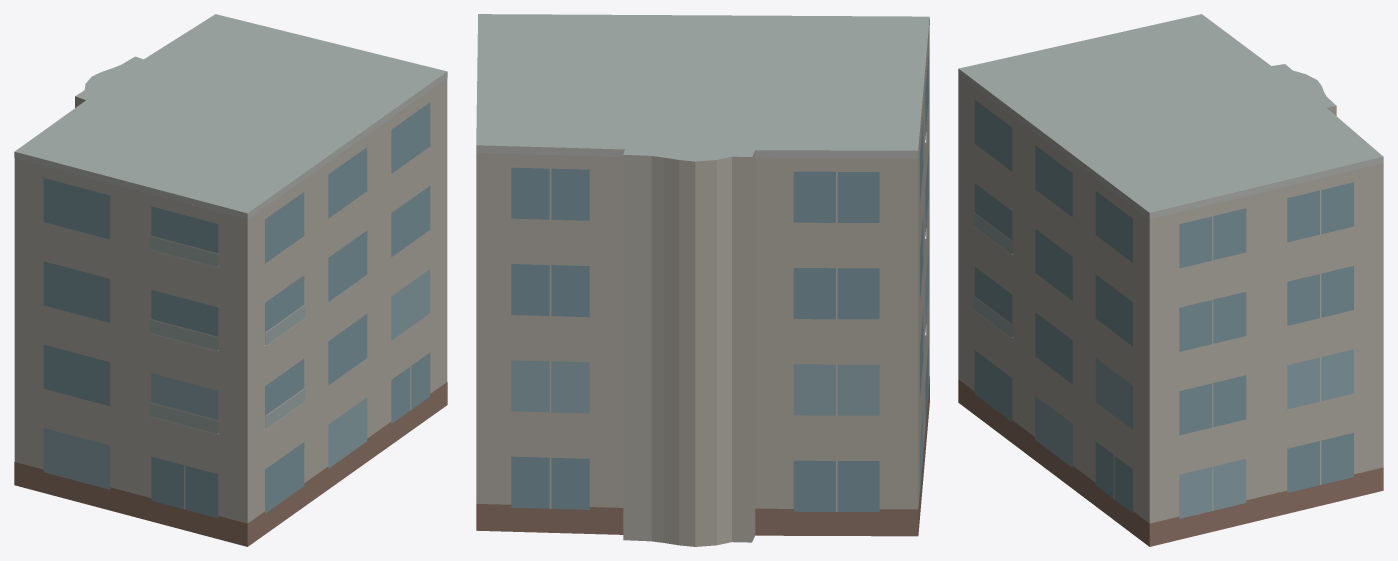
Rendered from survey-upis-32725062.glb.
3 renders of one model, left to right at view 1: azimuth 30°, elevation 25°; view 2: azimuth 150°, elevation 25°; view 3: azimuth 270°, elevation 25°, orthographic. The views are drawn at different scales.
Parts seen in each view (by area): view 1: survey-upis-32725062.tmp; view 2: survey-upis-32725062.tmp; view 3: survey-upis-32725062.tmp.
Part boxes in pixels (x1=…): survey-upis-32725062.tmp: x1=14, y1=14, x2=447, y2=546; survey-upis-32725062.tmp: x1=476, y1=14, x2=929, y2=546; survey-upis-32725062.tmp: x1=958, y1=14, x2=1383, y2=546.
Bounding box in the file's own units: 15.84 × 12.4 × 14.31.
